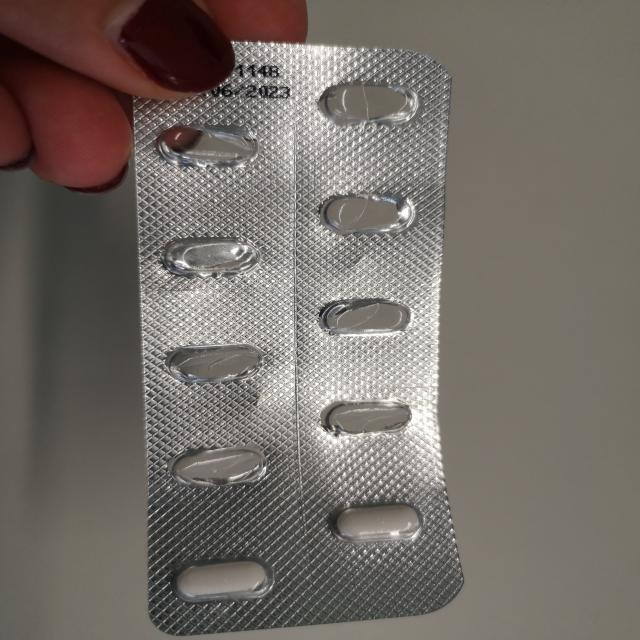Empty: (313, 76, 422, 129), (152, 119, 264, 169), (313, 186, 419, 238), (154, 232, 264, 280), (159, 341, 270, 387), (311, 294, 418, 340), (165, 444, 274, 489), (318, 396, 418, 438)
Pill: (168, 559, 279, 603), (329, 500, 428, 544)
